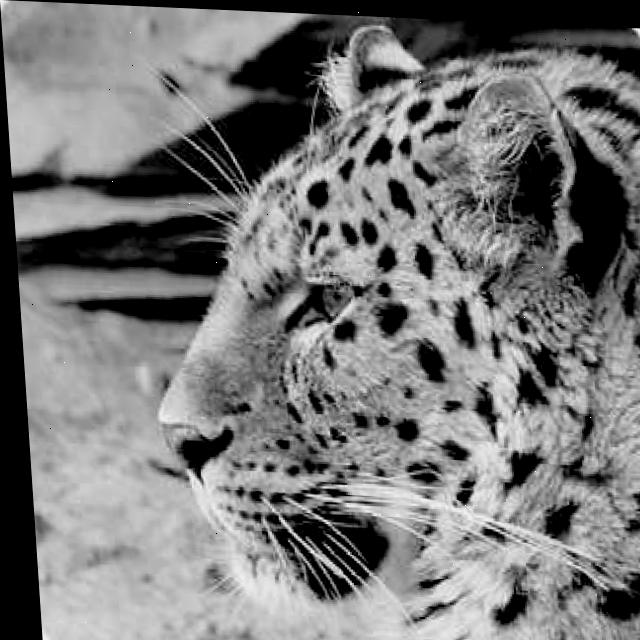Leopard: (126, 8, 640, 640)
